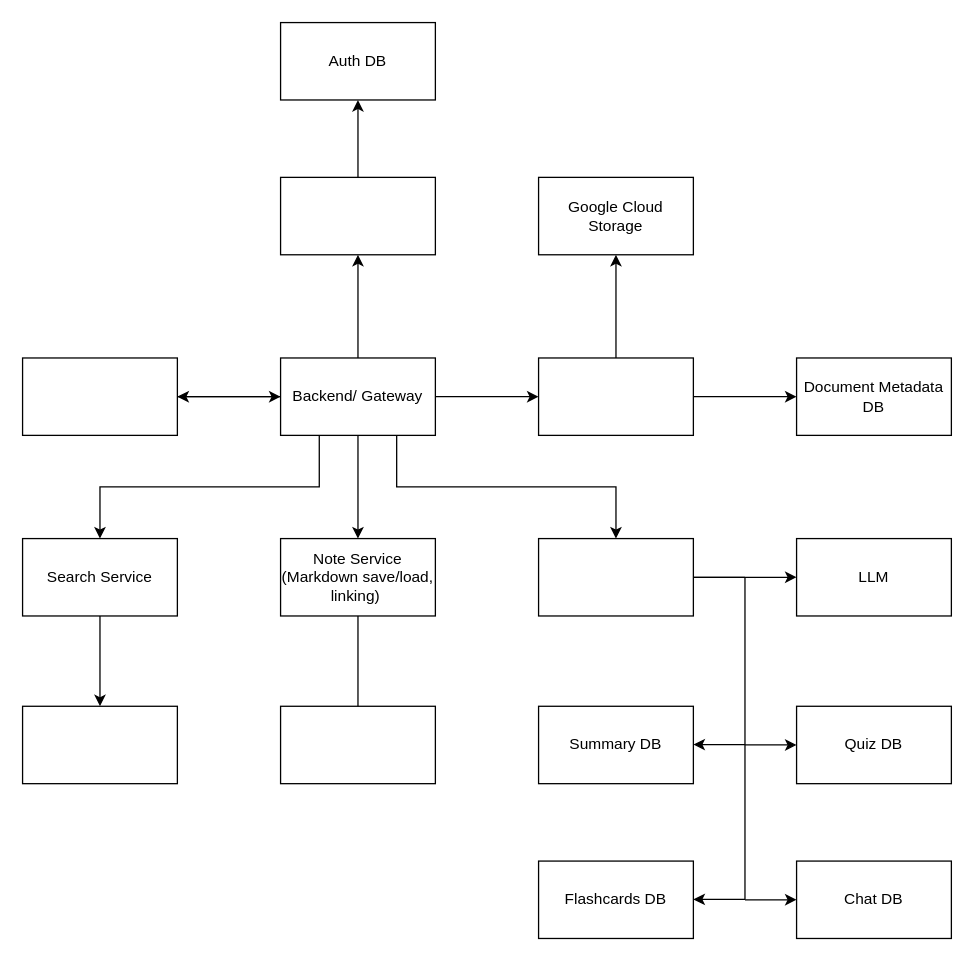
Some shapes in this 974 by 961 pixel diagram are drawn without their labels. Here are the shapes that lost their labels. From the top down, the box of each, then its label:
(279, 176, 435, 255): Authentication Service (Email, pw, jwt)
(21, 357, 177, 435): Web Client
(537, 357, 693, 435): Document Service (PDF Parser, signed URLs)
(537, 537, 693, 616): LLM Service (Summary, quiz, flashcards, chat)
(21, 705, 177, 784): Search DB
(279, 705, 435, 784): Note DB
